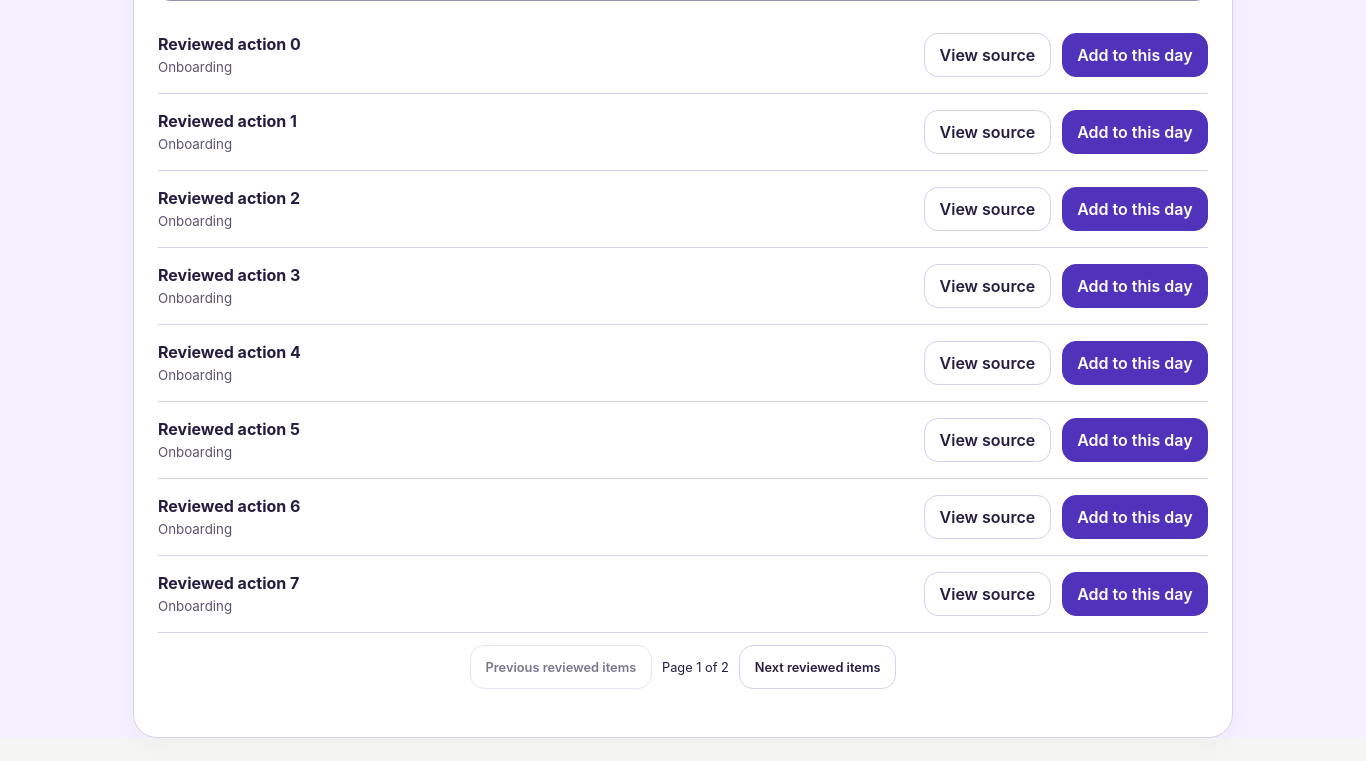
Scenario: bounds candidate rows and searches the fetched approved sources
(page scrolled)
Click the button "Next reviewed items".
click(818, 667)  # box [739,645,896,689]
(page scrolled)
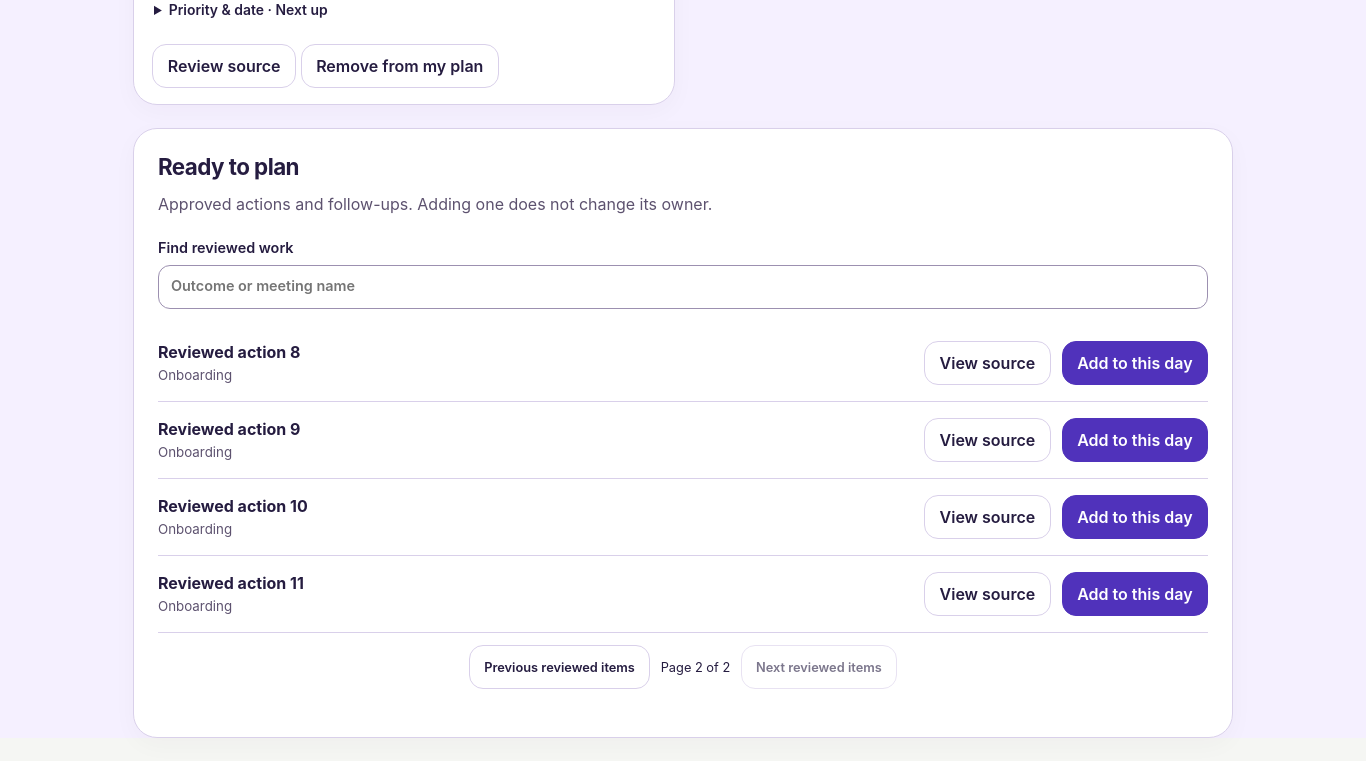
Expected: the number of buttons "Add to this day" is 4, [1062,340,1208,384]; [1062,418,1208,462]; [1062,494,1208,538]; [1062,572,1208,616]
Type "action 11" into the search field labelled "Find reviewed work".
click(683, 286); type("action 11")  # box [158,264,1208,308]
(page scrolled)
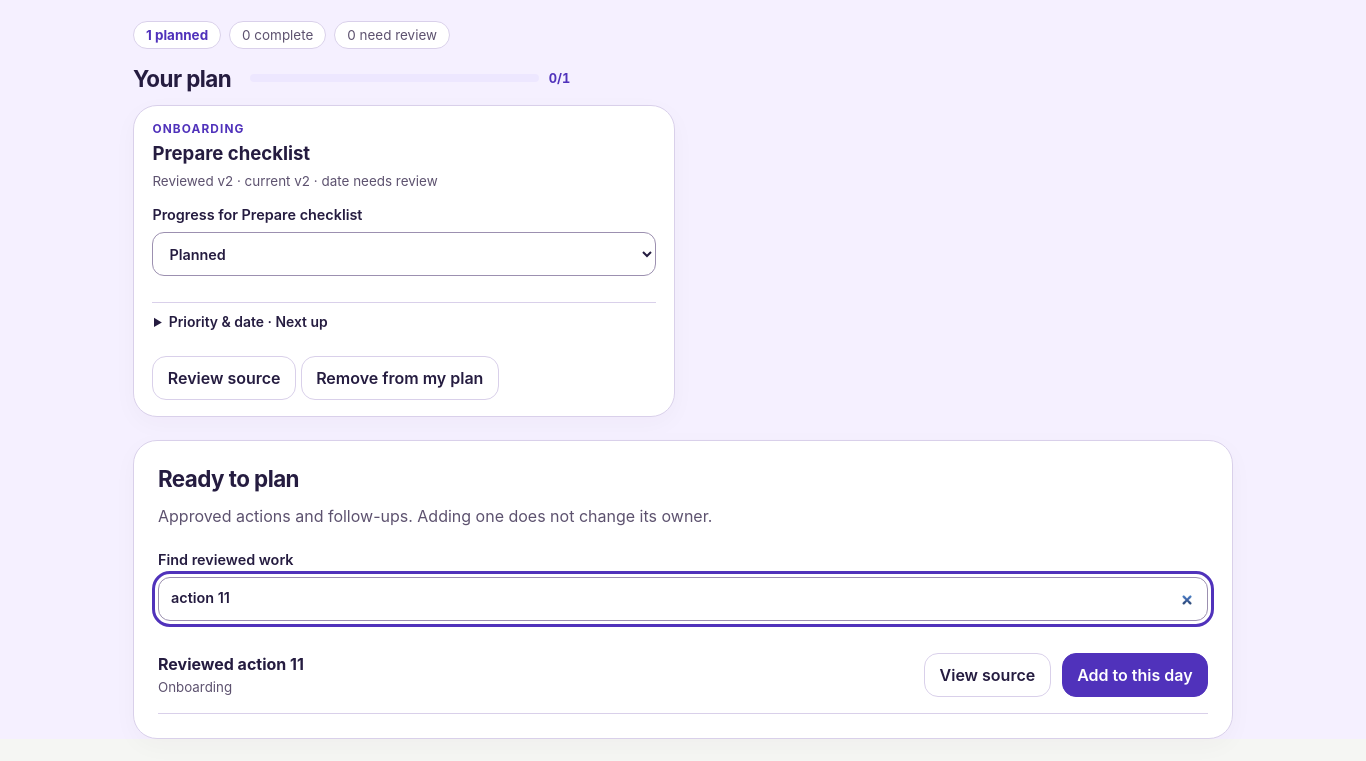
Now the text "Reviewed action 11" is shown, box [158,654,304,674]
Now the number of buttons "Add to this day" is 1, box [1062,652,1208,696]
